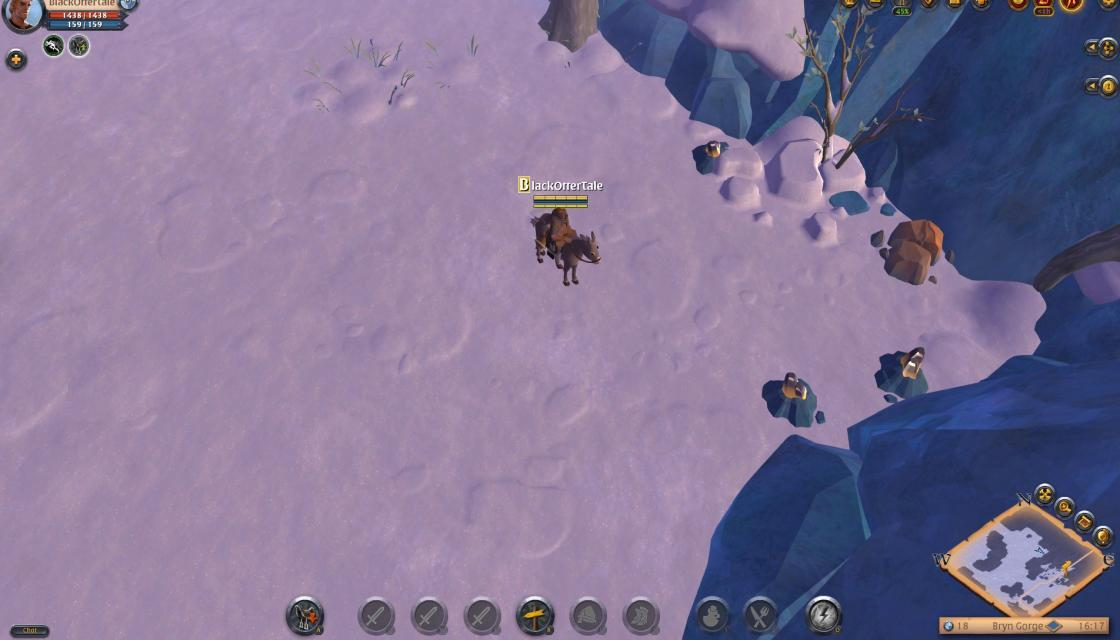copperore: (760, 368, 822, 429), (875, 343, 936, 400), (691, 133, 734, 179)
limestone: (875, 214, 948, 284)
